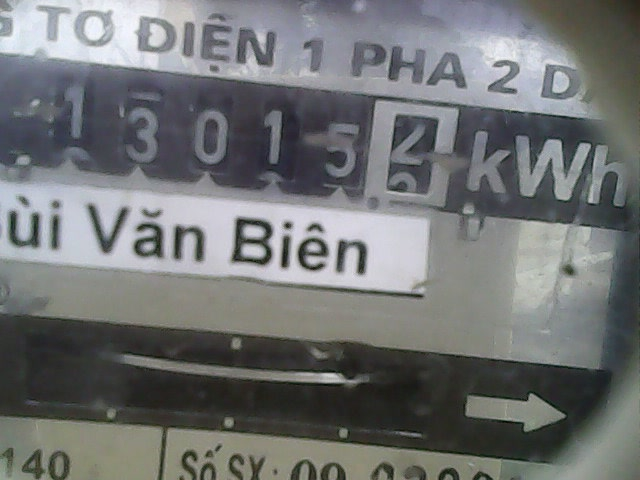phy_plate: (29, 57, 457, 211)
